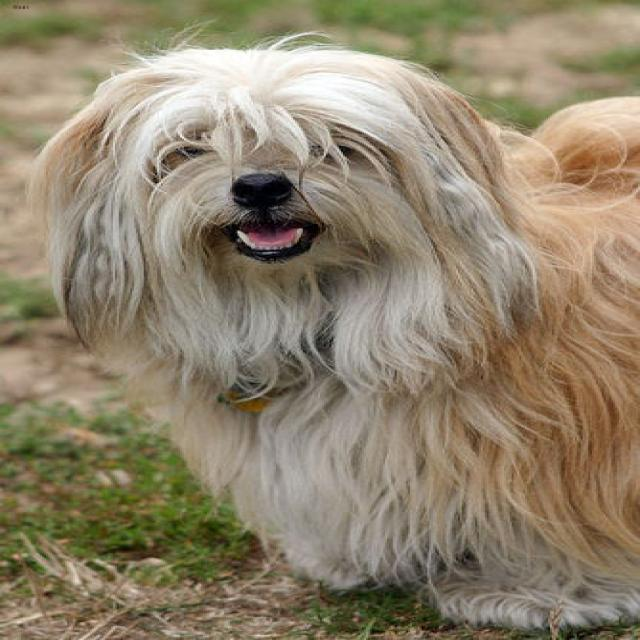dog-havanese: (2, 33, 636, 637)
